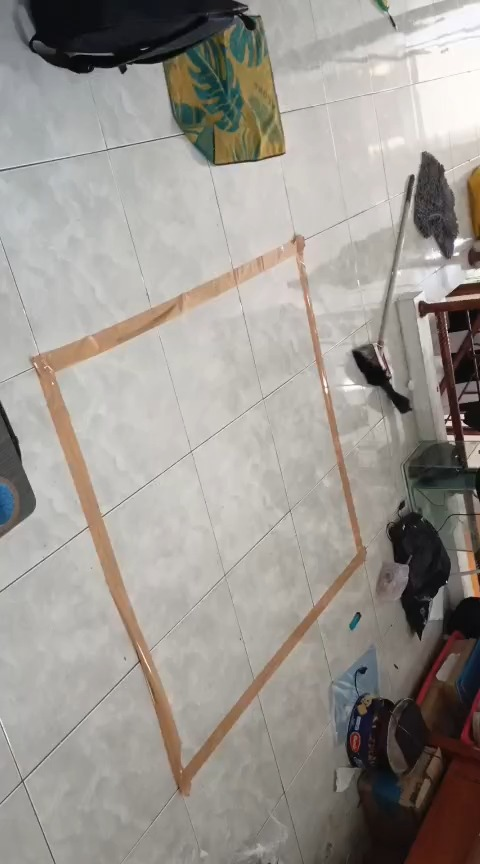floor marking: (32, 236, 365, 794)
